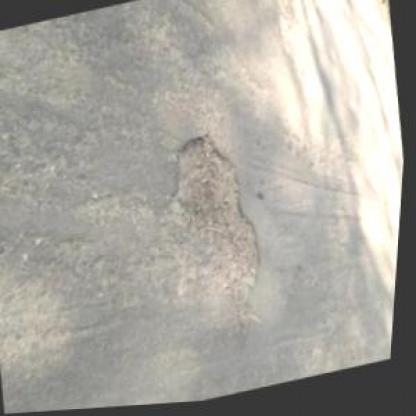pothole: (147, 124, 279, 323)
